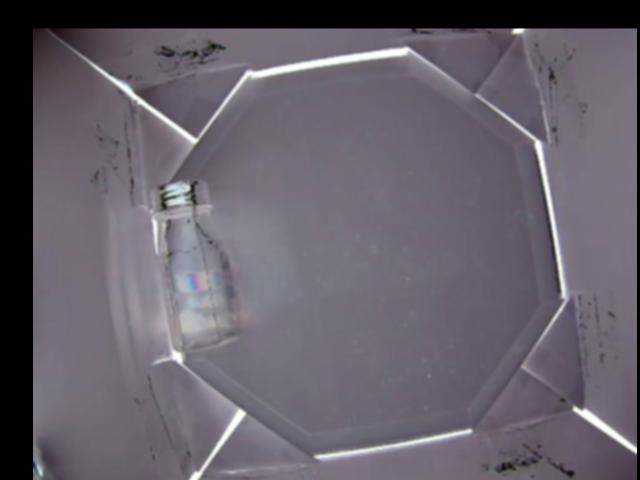Bottle: (148, 178, 245, 354)
